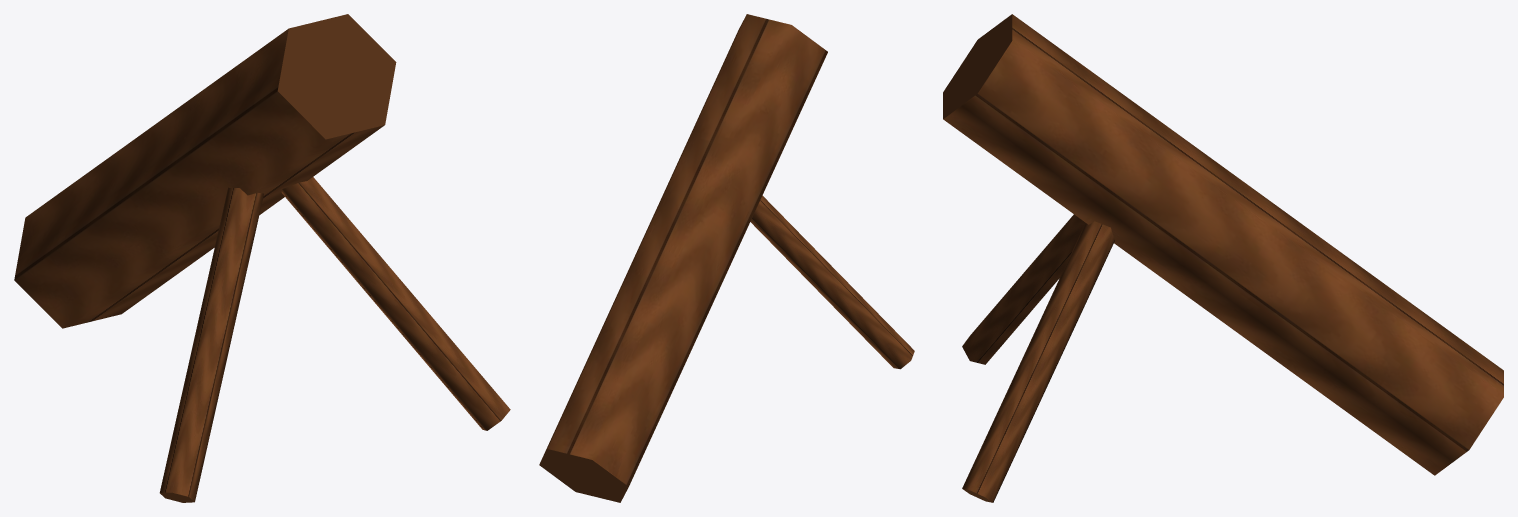
File: primitive-crafting-workshop-fleshing-beam-dd49a09b__21560.glb
3 renders of one model, left to right at view 1: azimuth 30°, elevation 25°; view 2: azimuth 150°, elevation 25°; view 3: azimuth 270°, elevation 25°, orthographic. The views are drawn at different scales.
Visible parts, largest first — view 1: fleshing-beam; view 2: fleshing-beam; view 3: fleshing-beam.
Boxes of the visible parts, box(x1,y1,x2,y2) form: fleshing-beam: box(14, 14, 510, 502); fleshing-beam: box(539, 14, 914, 502); fleshing-beam: box(943, 14, 1503, 502).
Bounding box in the file's own units: 0.759 × 0.9758 × 1.14.
Materials: 1 (1 with a texture image).
